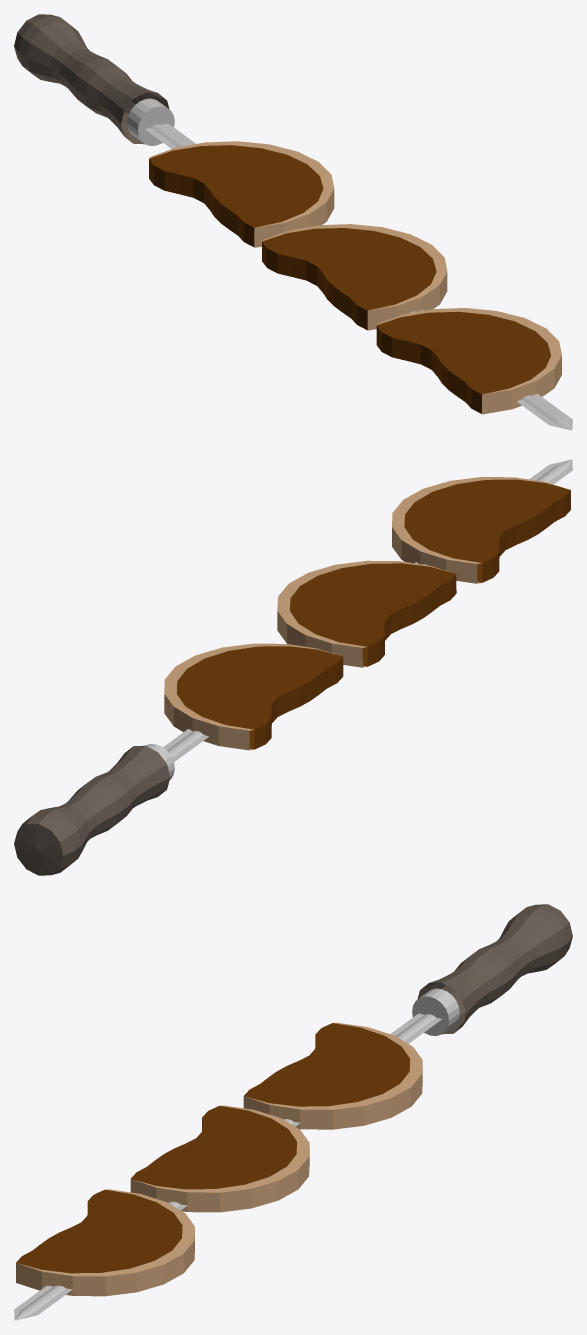
The model's file is espeto.dae.
The picture shows the model from 3 angles, top to bottom: view 1: azimuth 30°, elevation 25°; view 2: azimuth 150°, elevation 25°; view 3: azimuth 330°, elevation 25°; orthographic projection.
Parts seen in each view (by area): view 1: Component_5 (×3), Component_7 (×3), Component_1, Component_2 (×2); view 2: Component_5 (×3), Component_1, Component_7 (×3), Component_2; view 3: Component_5 (×3), Component_7 (×3), Component_1, Component_2 (×2).
Part boxes in pixels (box(x1,y1,x2,y2)): Component_5 (×3): box(149, 145, 550, 413); Component_7 (×3): box(149, 141, 561, 414); Component_1: box(14, 14, 169, 144); Component_2 (×2): box(127, 98, 572, 430); Component_5 (×3): box(176, 479, 570, 749); Component_1: box(14, 745, 170, 875); Component_7 (×3): box(164, 477, 565, 750); Component_2: box(163, 459, 572, 761); Component_5 (×3): box(16, 1023, 410, 1273); Component_7 (×3): box(16, 1022, 422, 1296); Component_1: box(417, 904, 572, 1034); Component_2 (×2): box(14, 988, 459, 1320).
Bounding box in the file's own units: 4.07 × 29.53 × 1.77.
